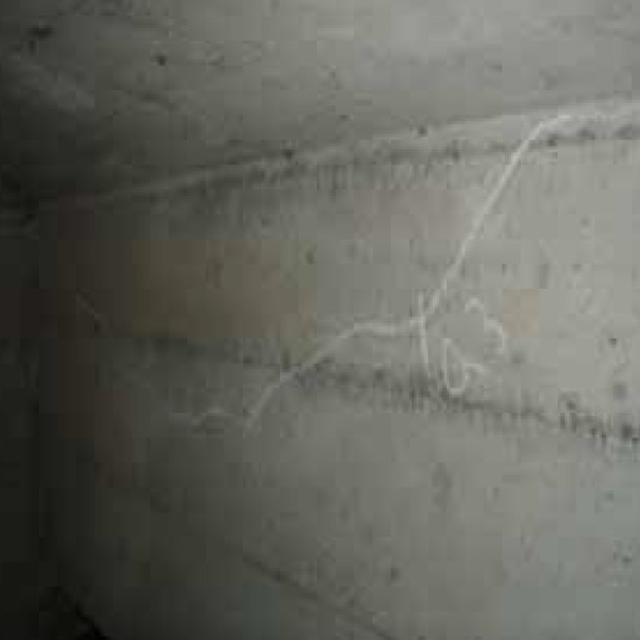crack: (69, 91, 582, 446)
